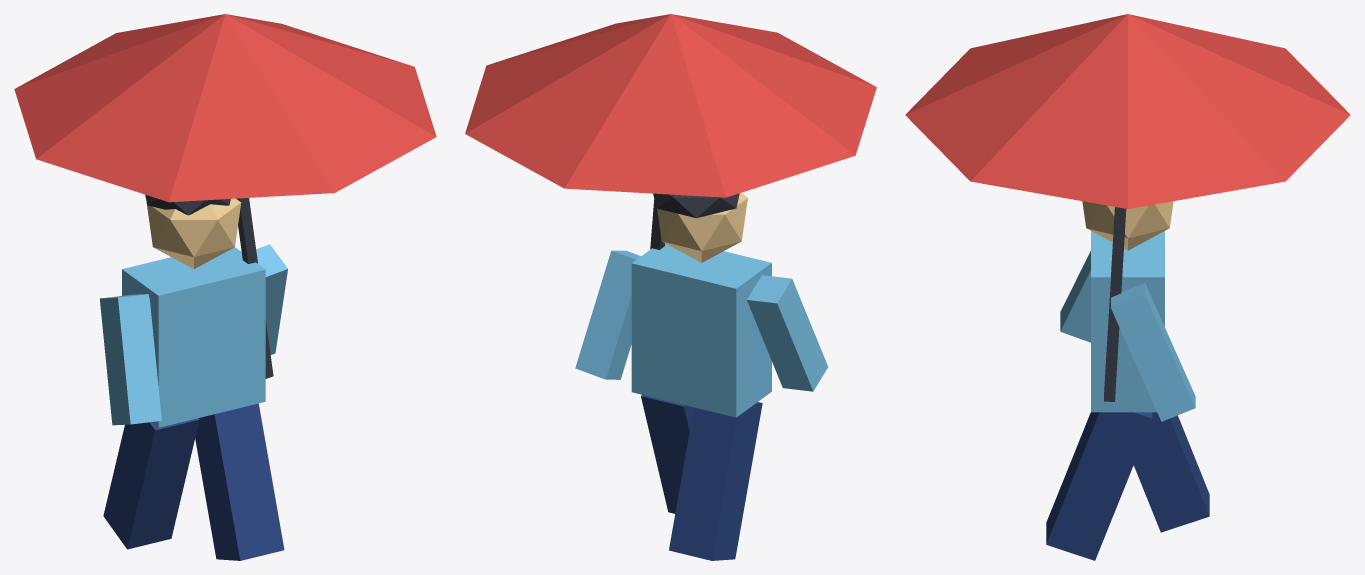
The model's file is people_umbrella.glb.
3 views of the same model, side by side, from view 1: azimuth 30°, elevation 25°; view 2: azimuth 150°, elevation 25°; view 3: azimuth 270°, elevation 25° (orthographic). The views are drawn at different scales.
Visible parts, largest first — view 1: people_umbrella; view 2: people_umbrella; view 3: people_umbrella.
Part boxes in pixels (x1=…): people_umbrella: x1=14, y1=14, x2=436, y2=560; people_umbrella: x1=465, y1=14, x2=876, y2=560; people_umbrella: x1=905, y1=14, x2=1350, y2=560.
Bounding box in the file's own units: 0.12 × 0.1597 × 0.12.
